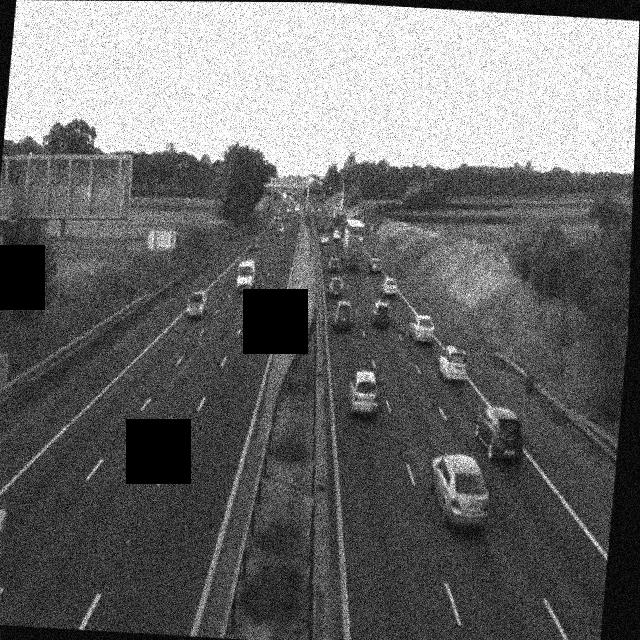bus: (339, 216, 368, 271)
car: (426, 453, 493, 530), (473, 406, 527, 462), (348, 369, 382, 417), (436, 343, 470, 383), (0, 506, 7, 625), (409, 314, 436, 344), (332, 300, 356, 331), (186, 289, 209, 318), (370, 298, 393, 327), (381, 278, 399, 298), (329, 276, 346, 297), (370, 258, 385, 275), (328, 256, 343, 273), (321, 231, 331, 243), (249, 237, 259, 249), (278, 223, 285, 233)
